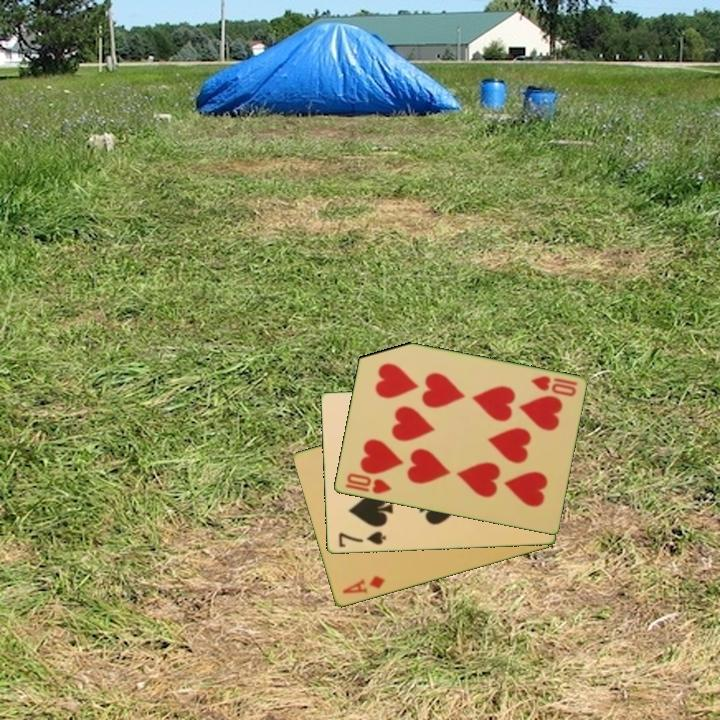10h: (527, 372, 580, 400), (341, 470, 394, 497)
7s: (335, 528, 389, 550)
Ad: (338, 572, 387, 597)
